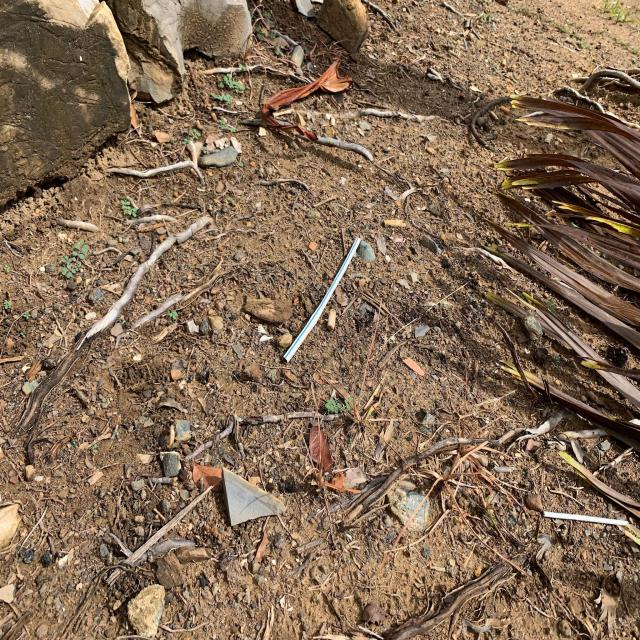litter: (280, 235, 363, 360)
